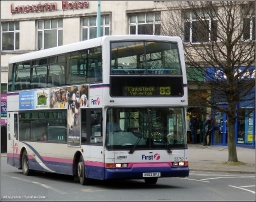bus: (7, 30, 191, 190)
